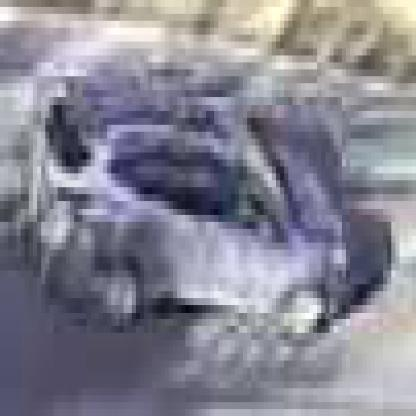car: (38, 98, 343, 320)
